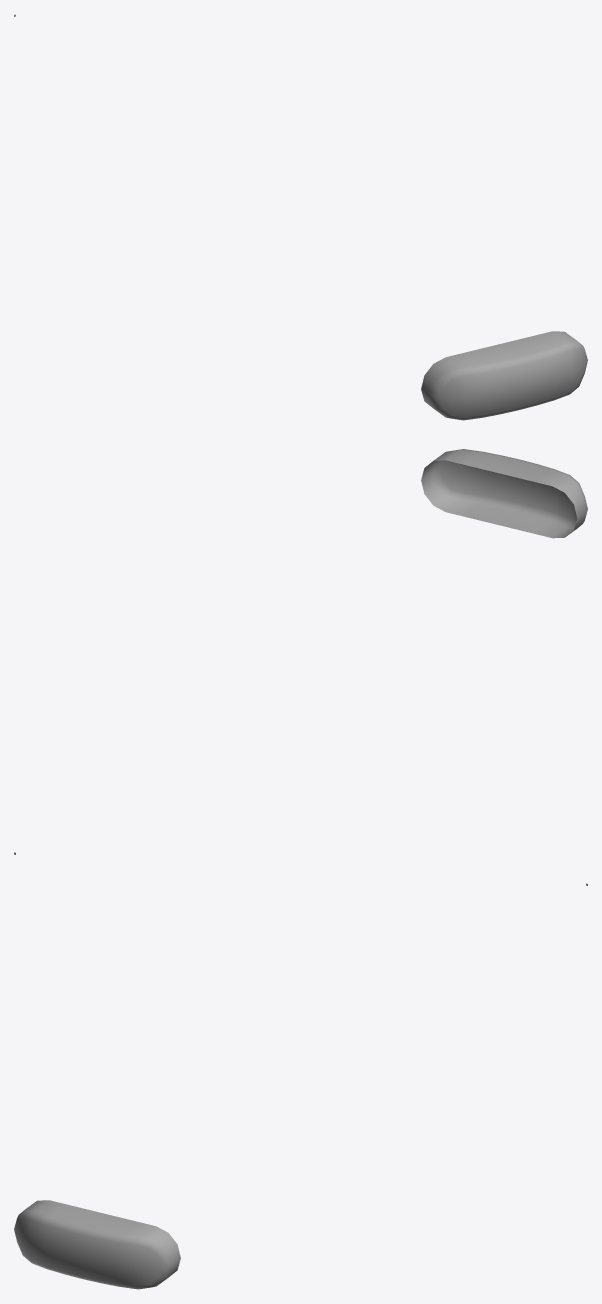
The model's file is AlarmClockButton_11_AlarmClockButton_11_1_GeomSubset_2.obj.
The picture shows the model from 3 angles, top to bottom: view 1: azimuth 30°, elevation 25°; view 2: azimuth 150°, elevation 25°; view 3: azimuth 330°, elevation 25°; orthographic projection.
Visible parts, largest first — view 1: AlarmClockButton_11_AlarmClockButton_11_1_GeomSubset_2; view 2: AlarmClockButton_11_AlarmClockButton_11_1_GeomSubset_2; view 3: AlarmClockButton_11_AlarmClockButton_11_1_GeomSubset_2.
Part boxes in pixels (box(x1,y1,x2,y2)): AlarmClockButton_11_AlarmClockButton_11_1_GeomSubset_2: box(14, 14, 587, 420); AlarmClockButton_11_AlarmClockButton_11_1_GeomSubset_2: box(14, 449, 587, 854); AlarmClockButton_11_AlarmClockButton_11_1_GeomSubset_2: box(14, 883, 587, 1289).
Size of the model in its own units: 0.0774 by 0.0246 by 0.4351.
